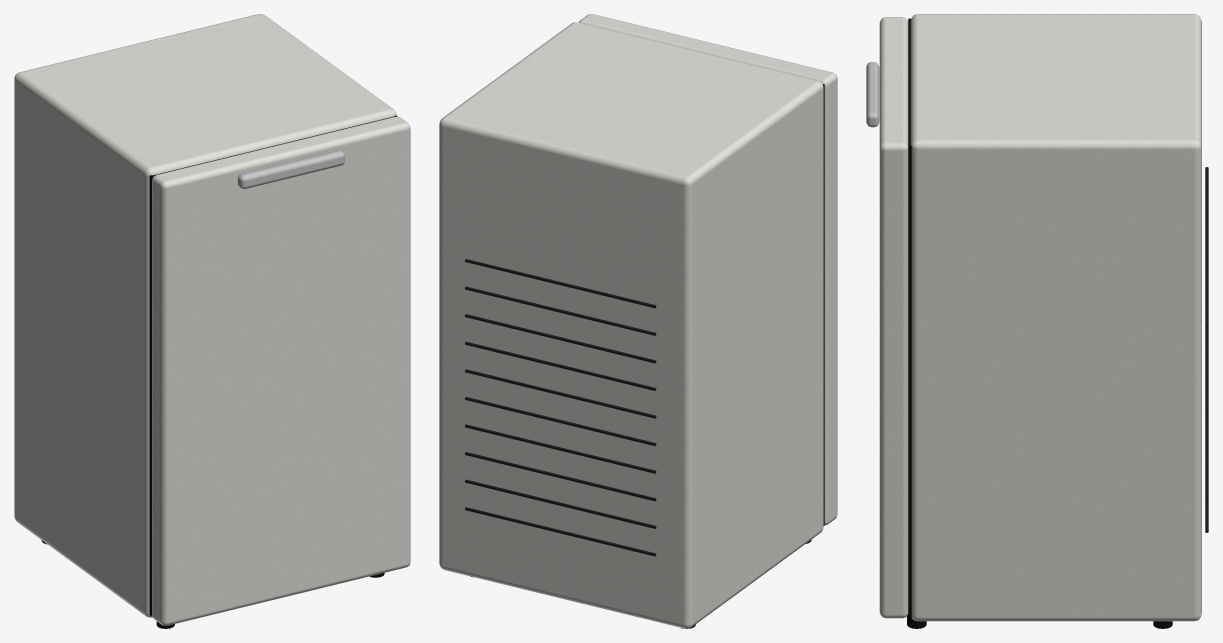
The model's file is MiniFridge.obj.
The picture shows the model from 3 angles, left to right: view 1: azimuth 30°, elevation 25°; view 2: azimuth 150°, elevation 25°; view 3: azimuth 270°, elevation 25°; orthographic projection. The views are drawn at different scales.
Visible parts, largest first — view 1: Door, Body, Handle, Gasket; view 2: Body, Door, Coil, Gasket; view 3: Body, Door, Gasket, Coil, Handle.
Boxes of the visible parts, x1,y1,x2,y2 form: Door: [152, 116, 410, 625]; Body: [14, 14, 396, 617]; Handle: [237, 151, 344, 188]; Gasket: [149, 115, 397, 615]; Body: [439, 22, 823, 628]; Door: [579, 14, 837, 525]; Coil: [465, 259, 656, 556]; Gasket: [823, 84, 824, 525]; Body: [910, 14, 1201, 621]; Door: [879, 17, 908, 618]; Gasket: [908, 18, 911, 616]; Coil: [1205, 167, 1208, 532]; Handle: [866, 62, 879, 127].
Bounding box in the file's own units: 0.48 × 0.84 × 0.5286.
6 materials, 2 textured.
